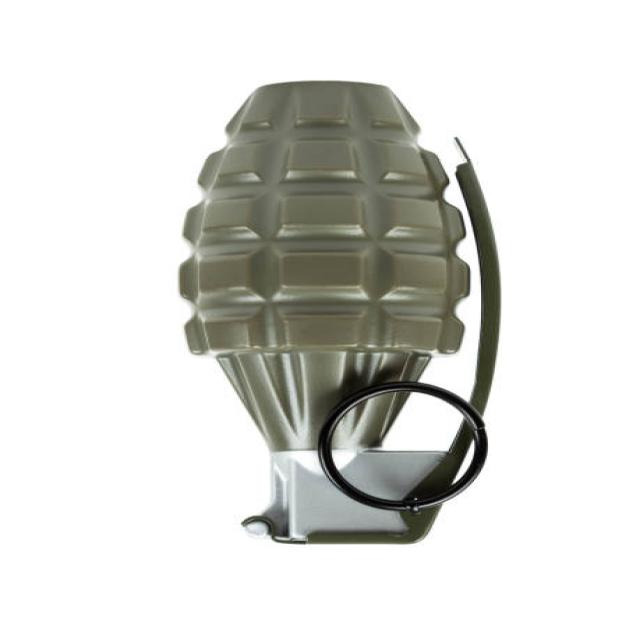grenade: (169, 78, 510, 555)
